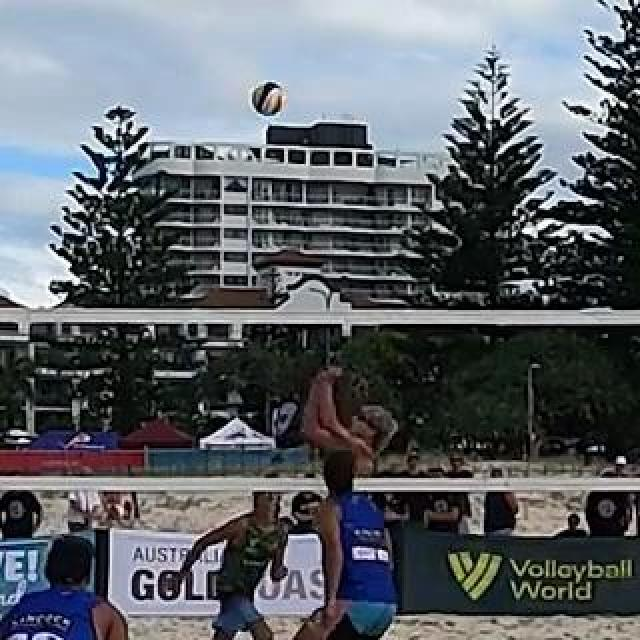volleyball: (252, 82, 284, 116)
